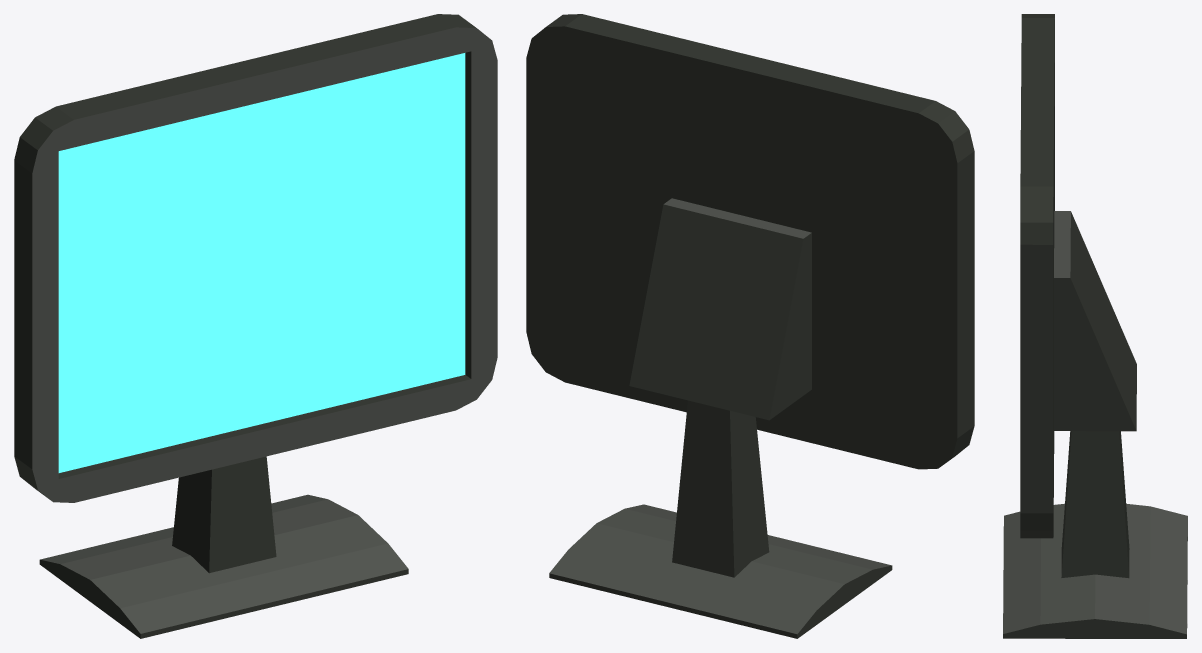
Rendered from Display_Monitor.glb.
The picture shows the model from 3 angles, left to right: view 1: azimuth 30°, elevation 25°; view 2: azimuth 150°, elevation 25°; view 3: azimuth 270°, elevation 25°; orthographic projection. The views are drawn at different scales.
Parts seen in each view (by area): view 1: Display_Monitor; view 2: Display_Monitor; view 3: Display_Monitor.
Part boxes in pixels (x1,y1,x2,y2): Display_Monitor: [14, 14, 497, 638]; Display_Monitor: [526, 14, 974, 638]; Display_Monitor: [1003, 14, 1187, 638].
Size of what is drawn, in the model's own units: 0.738 by 0.7978 by 0.2803.
1 material, 1 textured.
